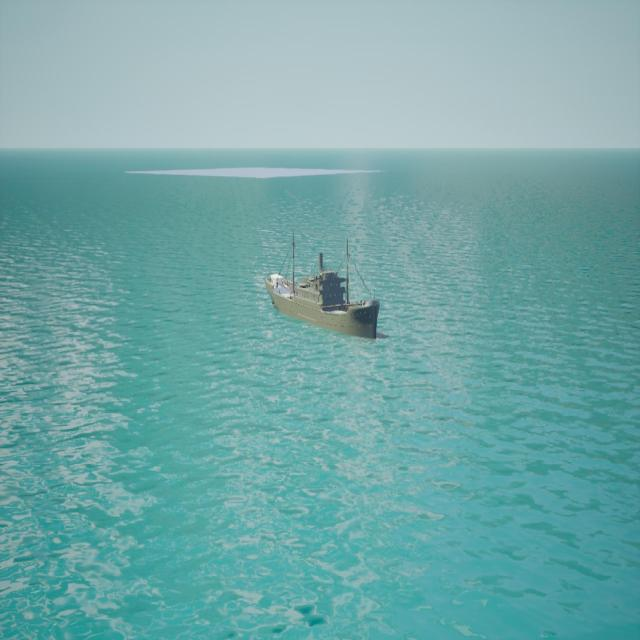fishing ship: (267, 244, 382, 343)
